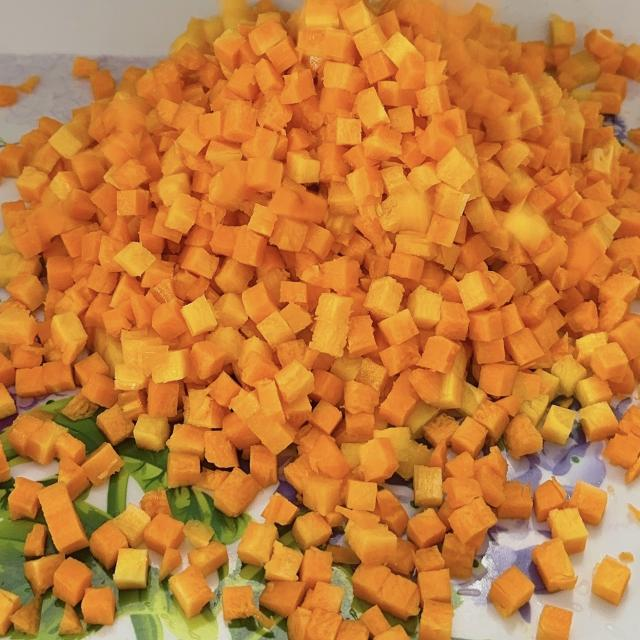ca rot: (0, 0, 640, 535)
